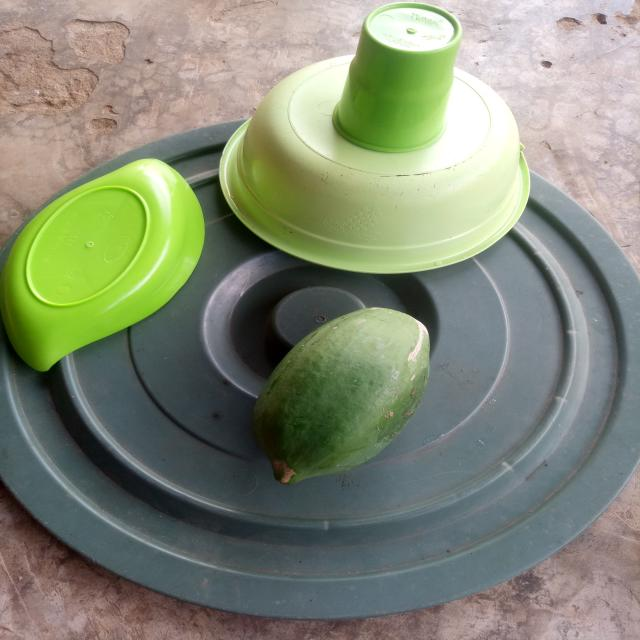Pepaya unrippen: (249, 307, 437, 486)
